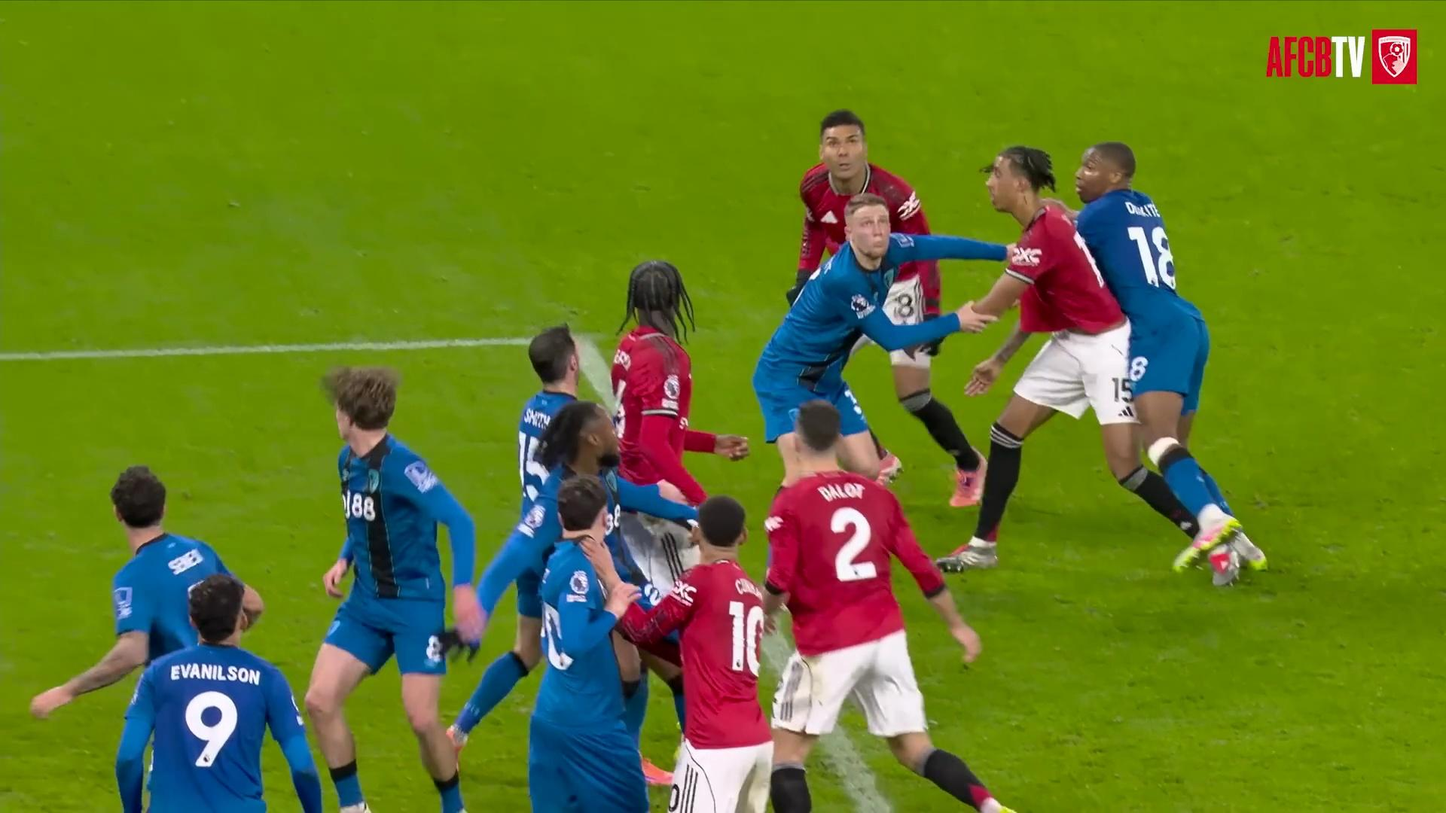player: (938, 147, 1195, 571), (764, 401, 1005, 812), (1048, 142, 1266, 584), (305, 367, 482, 812), (752, 193, 1007, 486), (32, 465, 228, 718), (115, 573, 322, 812), (620, 497, 772, 812), (477, 400, 695, 617), (529, 477, 648, 812), (611, 260, 748, 504), (788, 110, 929, 305), (517, 324, 578, 520)
